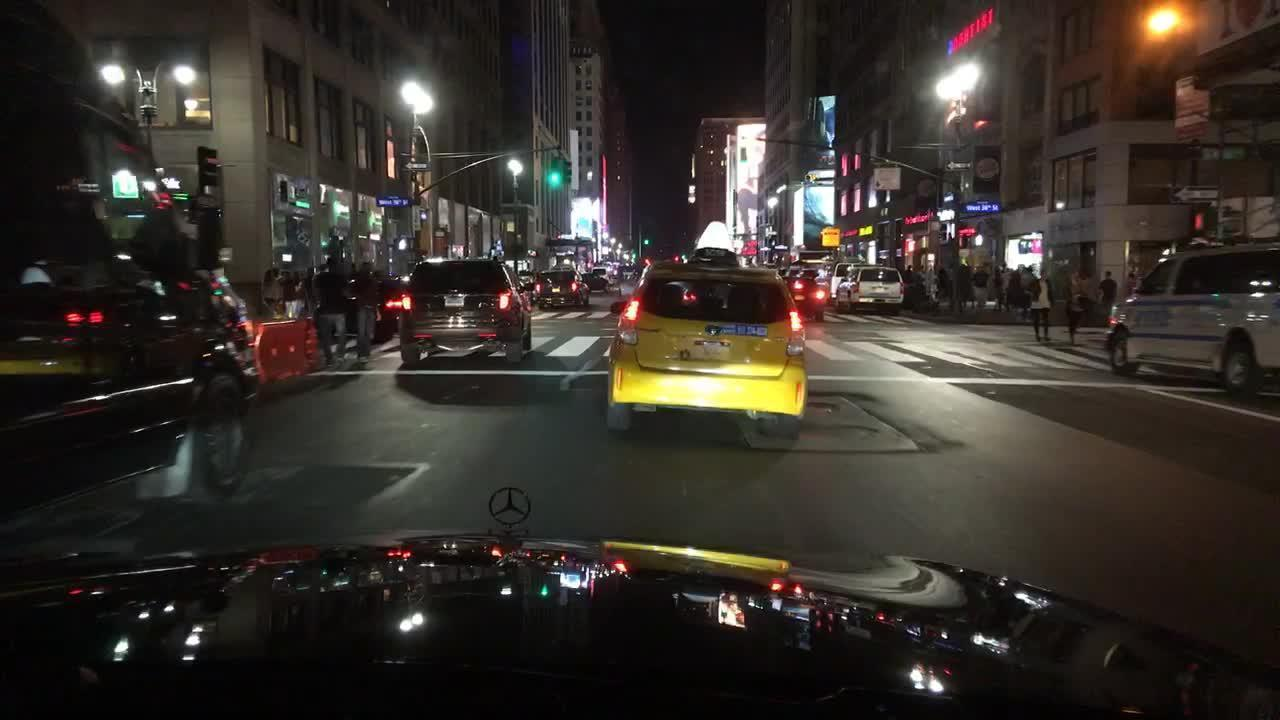Mercedes: (480, 483, 544, 531)
